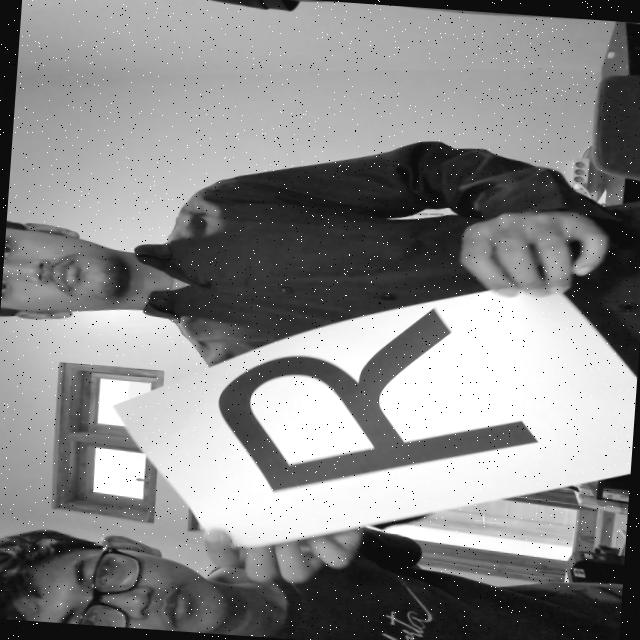r: (191, 286, 551, 520)
